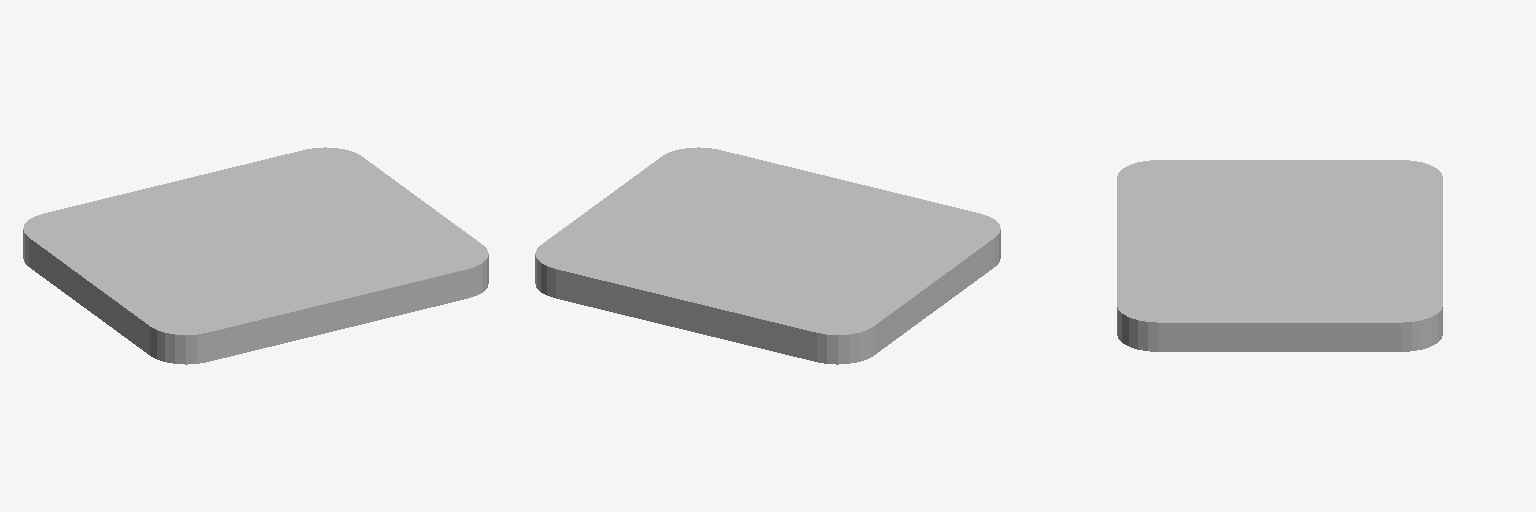
Rendered from original-80.obj.
The picture shows the model from 3 angles: view 1: azimuth 30°, elevation 25°; view 2: azimuth 150°, elevation 25°; view 3: azimuth 270°, elevation 25°; orthographic projection.
Parts seen in each view (by area): view 1: mesh79/mesh79-geometry#mesh79-geometry; view 2: mesh79/mesh79-geometry#mesh79-geometry; view 3: mesh79/mesh79-geometry#mesh79-geometry.
Part boxes in pixels (bbox=[...]): mesh79/mesh79-geometry#mesh79-geometry: bbox=[23, 147, 488, 364]; mesh79/mesh79-geometry#mesh79-geometry: bbox=[535, 147, 1000, 364]; mesh79/mesh79-geometry#mesh79-geometry: bbox=[1117, 160, 1442, 351].
Size of the model in its own units: 0.076 by 0.0064 by 0.0644.